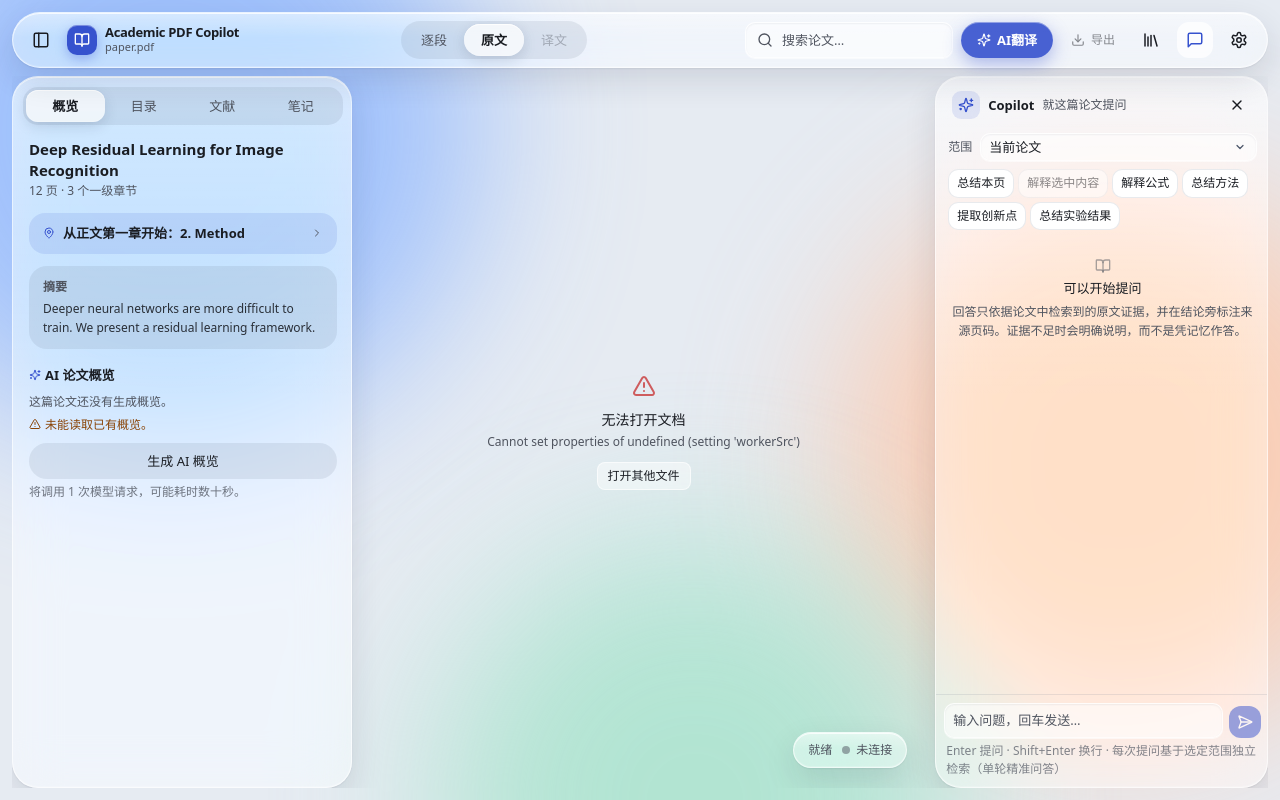
Test: DS-QA-015 · generating › tells a paper that cannot be structured apart from a provider that is down
The image size is (1280, 800).
Expected: the text "这篇论文还没有生成概览。" is shown, x1=29 y1=393 x2=173 y2=410
Click the button with test id "overview-generate". click: {"x": 183, "y": 461}
box: x1=29 y1=443 x2=337 y2=479
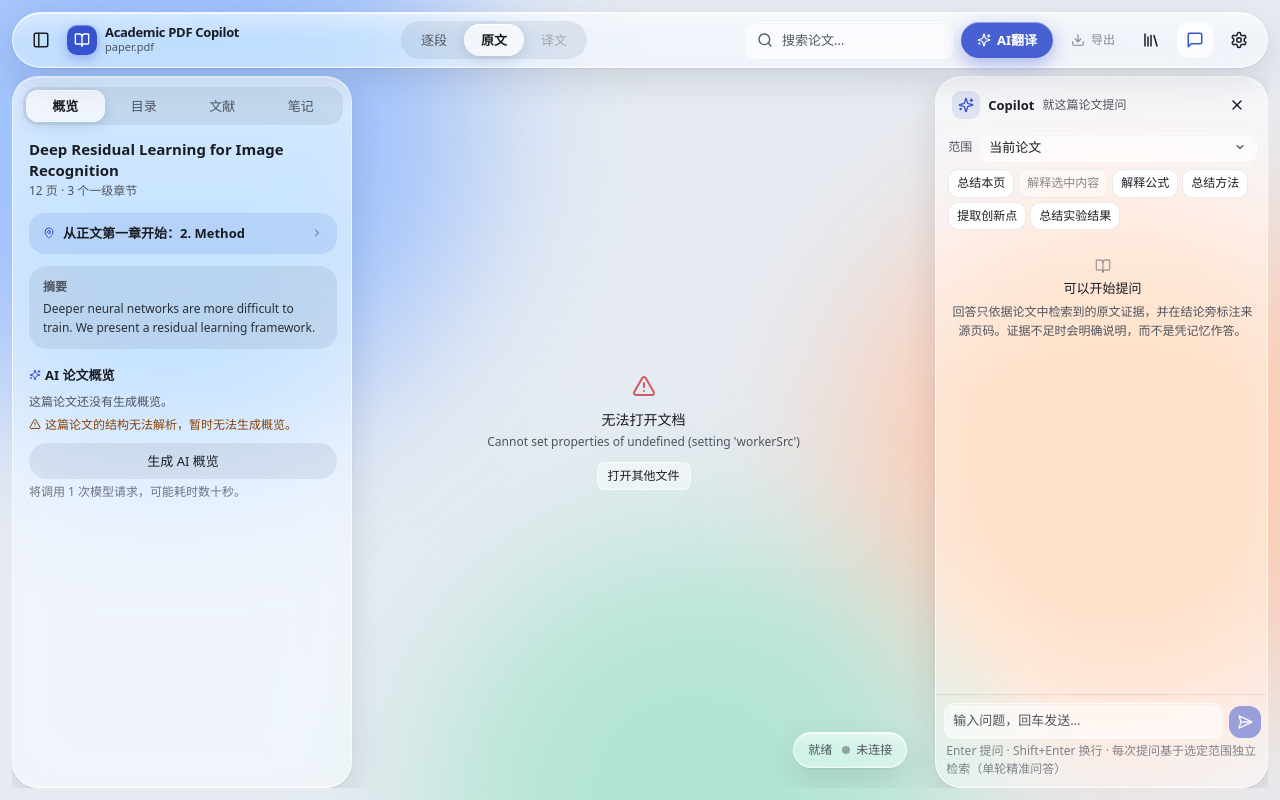
Expected: the message "这篇论文的结构无法解析，暂时无法生成概览。" is shown, x1=29 y1=416 x2=337 y2=435
Expected: the message with test id "overview-error" shows "结构无法解析", x1=45 y1=416 x2=297 y2=433
